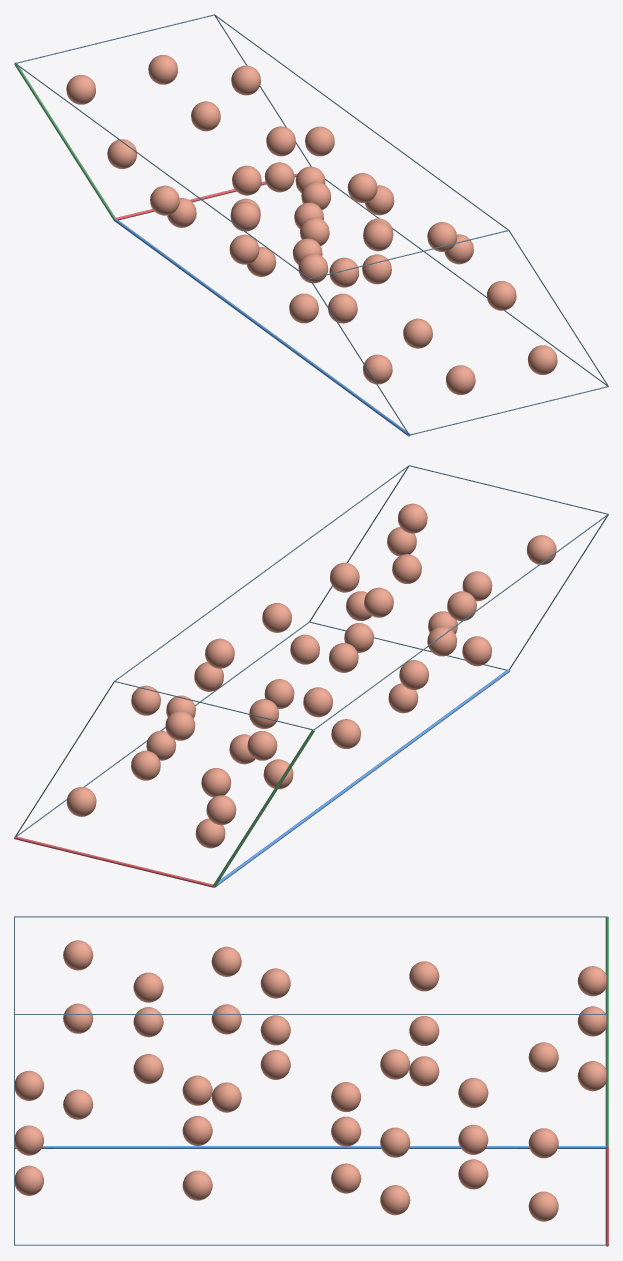
Rendered from nguyen-to-b.glb.
3 views of the same model, one above another, from view 1: azimuth 30°, elevation 25°; view 2: azimuth 150°, elevation 25°; view 3: azimuth 270°, elevation 25° (orthographic).
Visible parts, largest first — view 1: B2 · B · 1 (×17), B1 · B · 1 (×14), Ô mạng và các trục a, b, c; view 2: B1 · B · 1 (×16), B2 · B · 1 (×16), Ô mạng và các trục a, b, c; view 3: B1 · B · 1 (×18), B2 · B · 1 (×18), Ô mạng và các trục a, b, c.
Part boxes in pixels (x1=…): B2 · B · 1 (×17): x1=66, y1=55, x2=557, y2=394; B1 · B · 1 (×14): x1=167, y1=65, x2=456, y2=384; Ô mạng và các trục a, b, c: x1=14, y1=14, x2=608, y2=436; B1 · B · 1 (×16): x1=66, y1=503, x2=556, y2=848; B2 · B · 1 (×16): x1=146, y1=527, x2=476, y2=825; Ô mạng và các trục a, b, c: x1=14, y1=465, x2=608, y2=887; B1 · B · 1 (×18): x1=63, y1=940, x2=558, y2=1221; B2 · B · 1 (×18): x1=15, y1=946, x2=606, y2=1215; Ô mạng và các trục a, b, c: x1=14, y1=916, x2=608, y2=1246.
Bounding box in the file's own units: 7.4 × 4.39 × 12.61.
